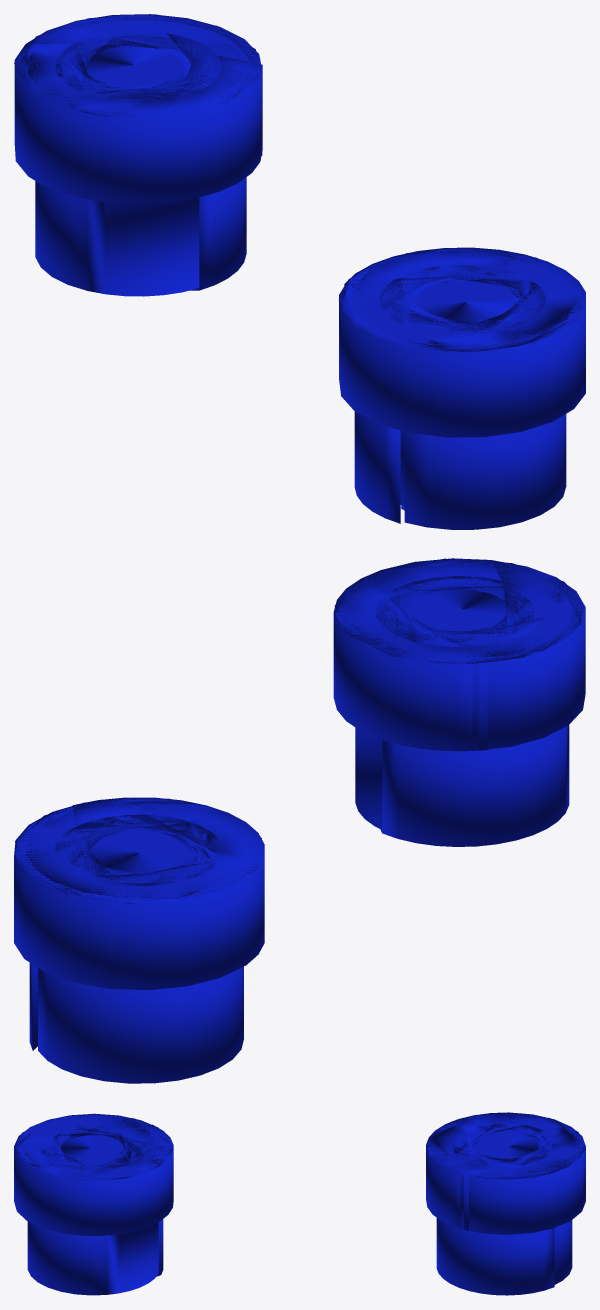
The model's file is tuyeau_element_000022.obj.
The picture shows the model from 3 angles, top to bottom: view 1: azimuth 30°, elevation 25°; view 2: azimuth 150°, elevation 25°; view 3: azimuth 270°, elevation 25°; orthographic projection. The views are drawn at different scales.
Parts seen in each view (by area): view 1: tuyeau1_Cube.014, tuyeau2_Cube.017; view 2: tuyeau2_Cube.017, tuyeau1_Cube.014; view 3: tuyeau1_Cube.014, tuyeau2_Cube.017.
Part boxes in pixels (<box>): tuyeau1_Cube.014: <box>14,14,262,296</box>; tuyeau2_Cube.017: <box>338,247,585,529</box>; tuyeau2_Cube.017: <box>333,558,585,846</box>; tuyeau1_Cube.014: <box>14,797,264,1083</box>; tuyeau1_Cube.014: <box>426,1112,585,1295</box>; tuyeau2_Cube.017: <box>14,1113,173,1295</box>.
Size of the model in its own units: 3592 by 2917 by 12617.
